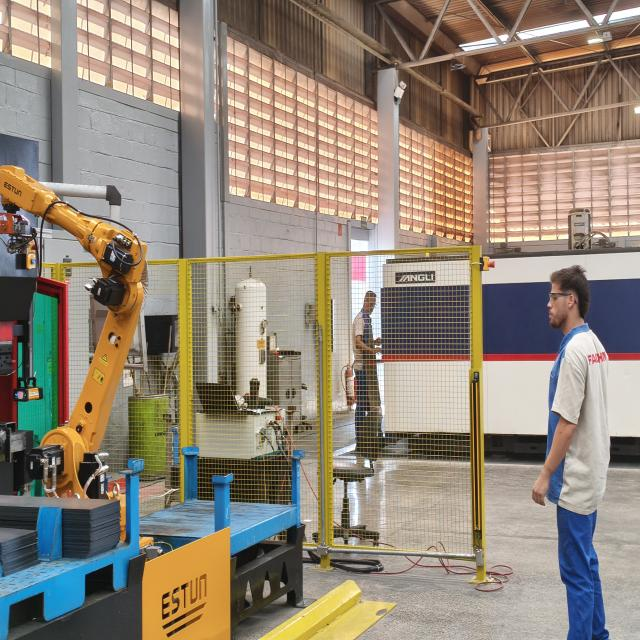oculos-epi: (549, 292, 571, 304)
